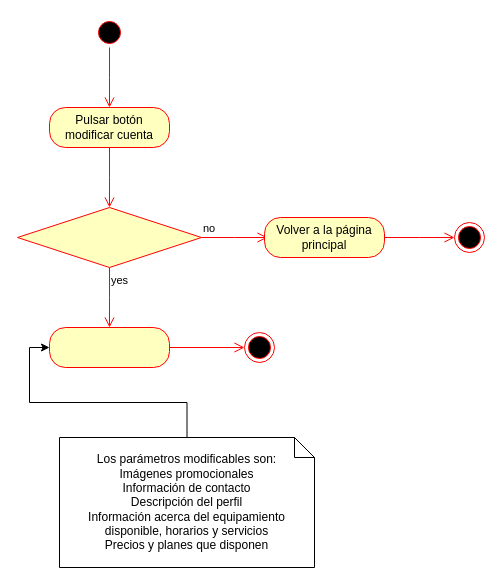
This 502x585 diagram has some shape labels left out. The box of each missing label's shape, as (x1, y1, x2, y2) in pixels:
Desea modificar sus datos?: (16, 206, 202, 268)
Modificar parametros: (48, 326, 170, 368)
